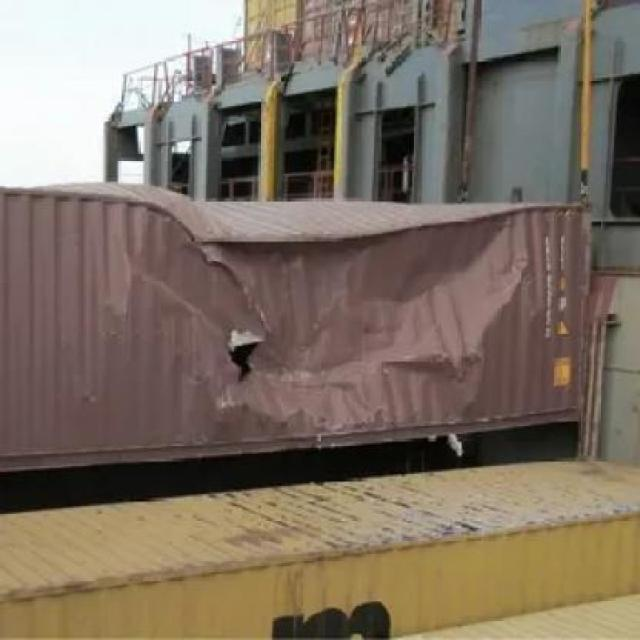dent: (138, 182, 539, 302), (270, 300, 534, 442)
hole: (227, 343, 263, 387)
